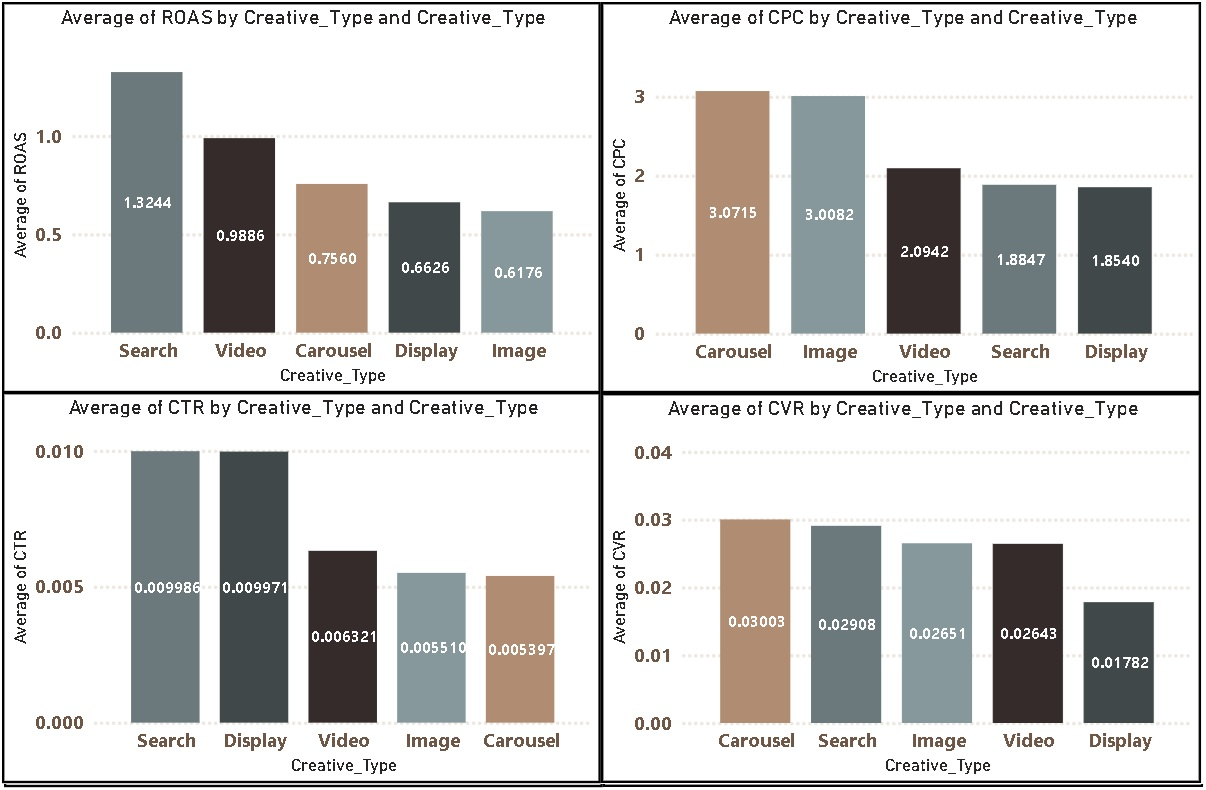

The dashboard page shown, as its layout file describes it:
{"tool":"powerbi","page":{"name":"Creative Performance Comparison","canvas":[1280,720],"ordinal":7},"visuals":[{"type":"columnChart","title":"Average ROAS by Creative_Type","fields":{"Category":["Sheet1.Creative_Type"],"Y":["Avg(Sheet1.ROAS)"],"Series":["Sheet1.Creative_Type"]},"box":[106.7,38.9,498.9,325.6],"z":0},{"type":"columnChart","title":"Average CPC by Creative_Type","fields":{"Category":["Sheet1.Creative_Type"],"Y":["Avg(Sheet1.CPC)"],"Series":["Sheet1.Creative_Type"]},"box":[605.8,39.2,500,326.4],"z":1000},{"type":"columnChart","title":"Average CVR by Creative_Type","fields":{"Y":["Avg(Sheet1.CVR)"],"Category":["Sheet1.Creative_Type"],"Series":["Sheet1.Creative_Type"]},"box":[605.4,365.4,500,325],"z":2000},{"type":"columnChart","title":"Average CTR by Creative_Type","fields":{"Category":["Sheet1.Creative_Type"],"Y":["Avg(Sheet1.CTR)"],"Series":["Sheet1.Creative_Type"]},"box":[106.7,364.4,498.9,325.6],"z":3000},{"type":"tableEx","fields":{"Values":["Sheet1.Creative_Type","Sheet1.Campaign"]},"box":[1160.8,64.2,119.2,165],"z":4000}]}

Visuals, with their boxes on the page's 1280x720 design canvas (x1, y1, x2, y2). These are canvas units, not pixel positions in the 1206x790 screenshot, which may show the page scaled, cropped or inside an application window:
"Average ROAS by Creative_Type" columnChart: Rect(107, 39, 606, 364)
"Average CPC by Creative_Type" columnChart: Rect(606, 39, 1106, 366)
"Average CVR by Creative_Type" columnChart: Rect(605, 365, 1105, 690)
"Average CTR by Creative_Type" columnChart: Rect(107, 364, 606, 690)
tableEx - Sheet1.Creative_Type x Sheet1.Campaign: Rect(1161, 64, 1280, 229)
